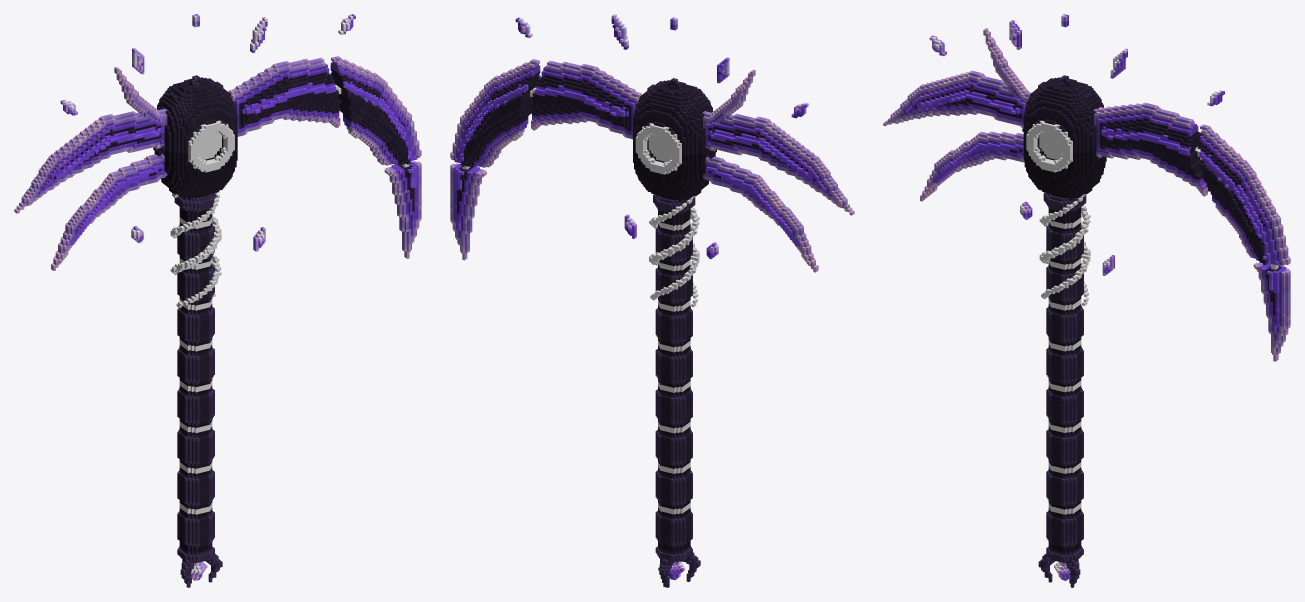
File: PiocheNeant.fbx
The picture shows the model from 3 angles, left to right: view 1: azimuth 30°, elevation 25°; view 2: azimuth 150°, elevation 25°; view 3: azimuth 330°, elevation 25°; orthographic projection.
Parts seen in each view (by area): view 1: PiocheNeant_Tete_FerNoira, PiocheNeant_Tete_FerNoirb, PiocheNeant_Manche_FerNoir, PiocheNeant_Tete_Cristal, PiocheNeant_Manche_Lueur, PiocheNeant_Tete_Lueur; view 2: PiocheNeant_Tete_FerNoira, PiocheNeant_Tete_FerNoirb, PiocheNeant_Manche_FerNoir, PiocheNeant_Tete_Cristal, PiocheNeant_Manche_Lueur, PiocheNeant_Tete_Lueur; view 3: PiocheNeant_Tete_FerNoirb, PiocheNeant_Manche_FerNoir, PiocheNeant_Tete_FerNoira, PiocheNeant_Tete_Cristal, PiocheNeant_Manche_Lueur, PiocheNeant_Tete_Lueur.
Part boxes in pixels (box(x1,y1,x2,y2)): PiocheNeant_Tete_FerNoira: box(14, 67, 234, 270); PiocheNeant_Tete_FerNoirb: box(227, 56, 421, 258); PiocheNeant_Manche_FerNoir: box(174, 192, 222, 587); PiocheNeant_Tete_Cristal: box(56, 14, 417, 251); PiocheNeant_Manche_Lueur: box(170, 190, 221, 514); PiocheNeant_Tete_Lueur: box(188, 84, 409, 172); PiocheNeant_Tete_FerNoira: box(636, 69, 854, 272); PiocheNeant_Tete_FerNoirb: box(450, 59, 642, 260); PiocheNeant_Manche_FerNoir: box(653, 194, 700, 587); PiocheNeant_Tete_Cristal: box(454, 14, 812, 258); PiocheNeant_Manche_Lueur: box(649, 196, 699, 514); PiocheNeant_Tete_Lueur: box(462, 87, 681, 174); PiocheNeant_Tete_FerNoirb: box(1075, 93, 1290, 361); PiocheNeant_Manche_FerNoir: box(1038, 192, 1086, 587); PiocheNeant_Tete_FerNoira: box(883, 28, 1101, 201); PiocheNeant_Tete_Cristal: box(917, 14, 1283, 293); PiocheNeant_Manche_Lueur: box(1039, 194, 1090, 514); PiocheNeant_Tete_Lueur: box(1026, 120, 1278, 269).
Bounding box in the file's own units: 6.64 × 8.88 × 0.96.
